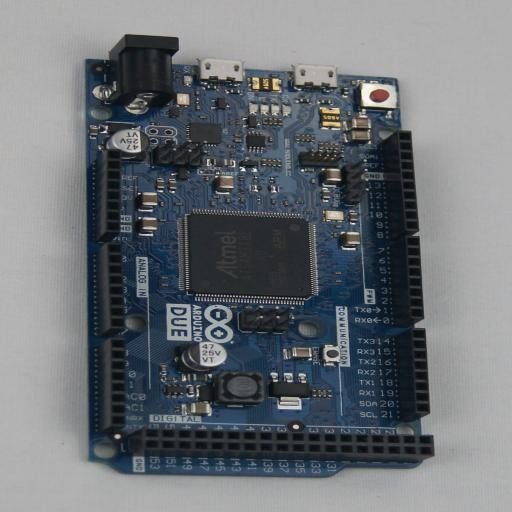Arduino Due: (85, 34, 434, 478)
